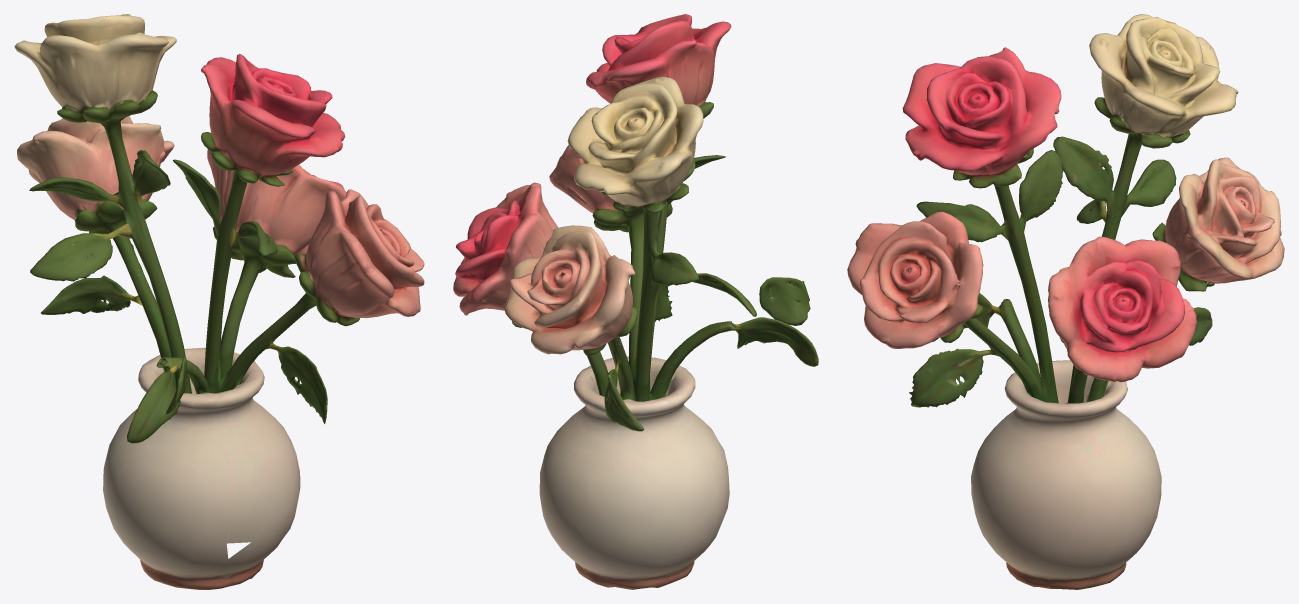
File: keepsake-ecuador-roses.glb
The picture shows the model from 3 angles, left to right: view 1: azimuth 30°, elevation 25°; view 2: azimuth 150°, elevation 25°; view 3: azimuth 270°, elevation 25°; orthographic projection. The views are drawn at different scales.
Visible parts, largest first — view 1: tripo_node_9f4da309-a73c-4cb0-a8d8-381713239d3b; view 2: tripo_node_9f4da309-a73c-4cb0-a8d8-381713239d3b; view 3: tripo_node_9f4da309-a73c-4cb0-a8d8-381713239d3b.
Boxes of the visible parts, bbox=[...] form: tripo_node_9f4da309-a73c-4cb0-a8d8-381713239d3b: bbox=[14, 14, 424, 589]; tripo_node_9f4da309-a73c-4cb0-a8d8-381713239d3b: bbox=[453, 14, 818, 589]; tripo_node_9f4da309-a73c-4cb0-a8d8-381713239d3b: bbox=[847, 14, 1284, 589].
Bounding box in the file's own units: 0.5936 × 0.9761 × 0.7481.
1 material, 1 textured.
